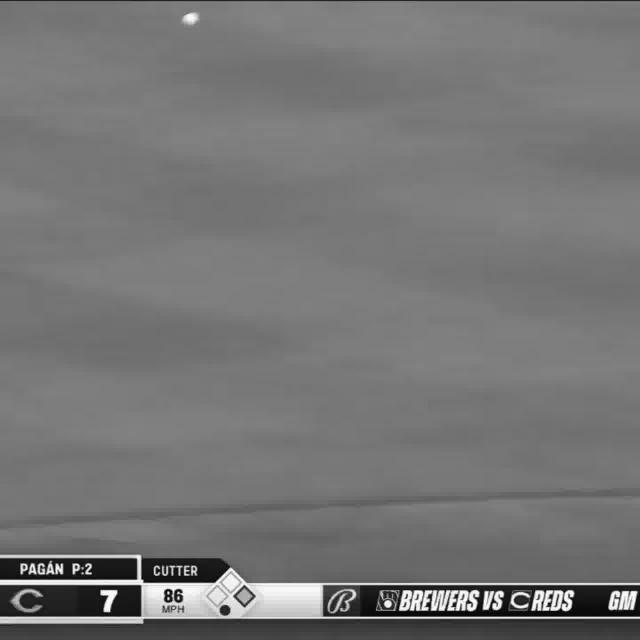baseball: (180, 12, 201, 28)
